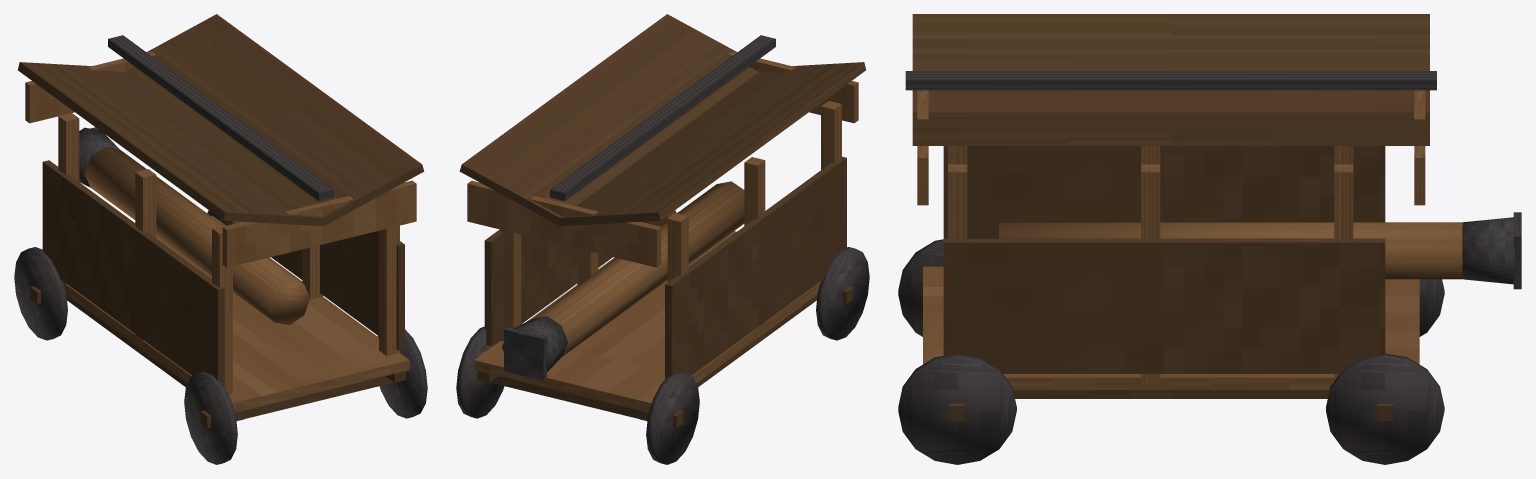
Rendered from ae_ram_lod2.glb.
3 renders of one model, left to right at view 1: azimuth 30°, elevation 25°; view 2: azimuth 150°, elevation 25°; view 3: azimuth 270°, elevation 25°, orthographic. The views are drawn at different scales.
Visible parts, largest first — view 1: roofR, wallL, roofL, floor, log_core, gable_r, wallR, ridge, wheel_RL_tyre, wheel_FL_tyre, post_1_0, wheel_RR_tyre (+8 smaller); view 2: roofR, wallL, roofL, floor, log_core, gable_f, wallR, ridge, wheel_FL_tyre, wheel_RL_tyre, wheel_FR_tyre, head_plate (+9 smaller); view 3: wallR, roofL, wallL, roofR, ridge, log_core, wheel_RR_tyre, wheel_FR_tyre, floor, ram_head, runnerR, wheel_RL_tyre (+6 smaller).
Boxes of the visible parts, x1=… form: roofR: x1=125, y1=14, x2=424, y2=225; wallL: x1=42, y1=160, x2=224, y2=386; roofL: x1=18, y1=62, x2=325, y2=226; floor: x1=65, y1=215, x2=409, y2=412; log_core: x1=84, y1=147, x2=310, y2=325; gable_r: x1=222, y1=180, x2=416, y2=267; wallR: x1=223, y1=220, x2=404, y2=350; ridge: x1=108, y1=35, x2=333, y2=200; wheel_RL_tyre: x1=184, y1=371, x2=237, y2=464; wheel_FL_tyre: x1=14, y1=247, x2=67, y2=340; post_1_0: x1=379, y1=225, x2=399, y2=355; wheel_RR_tyre: x1=378, y1=329, x2=427, y2=418; roofR: x1=459, y1=14, x2=758, y2=225; wallL: x1=665, y1=156, x2=846, y2=379; roofL: x1=558, y1=62, x2=865, y2=226; floor: x1=474, y1=231, x2=820, y2=412; log_core: x1=533, y1=181, x2=744, y2=356; gable_f: x1=467, y1=180, x2=661, y2=267; wallR: x1=484, y1=221, x2=657, y2=346; ridge: x1=550, y1=35, x2=775, y2=200; wheel_FL_tyre: x1=646, y1=371, x2=699, y2=464; wheel_RL_tyre: x1=816, y1=247, x2=869, y2=340; wheel_FR_tyre: x1=456, y1=326, x2=504, y2=418; head_plate: x1=504, y1=327, x2=546, y2=380; wallR: x1=943, y1=238, x2=1385, y2=373; roofL: x1=912, y1=14, x2=1429, y2=111; wallL: x1=943, y1=146, x2=1385, y2=238; roofR: x1=912, y1=111, x2=1429, y2=145; ridge: x1=905, y1=71, x2=1436, y2=90; log_core: x1=999, y1=222, x2=1462, y2=279; wheel_RR_tyre: x1=898, y1=354, x2=1016, y2=464; wheel_FR_tyre: x1=1326, y1=353, x2=1444, y2=464; floor: x1=923, y1=266, x2=1419, y2=389; ram_head: x1=1462, y1=217, x2=1514, y2=284; runnerR: x1=1013, y1=390, x2=1329, y2=398; wheel_RL_tyre: x1=898, y1=239, x2=943, y2=336.
Size of the model in its own units: 2.15 by 2.64 by 4.52.
2 materials, 2 textured.
